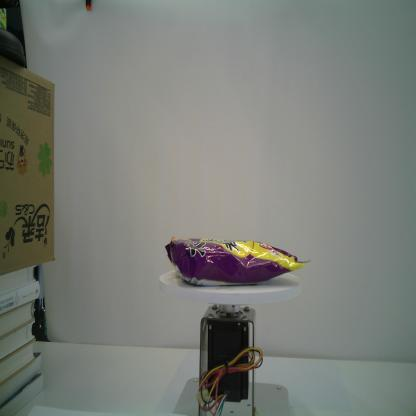Instant Noodles: (164, 235, 313, 288)
